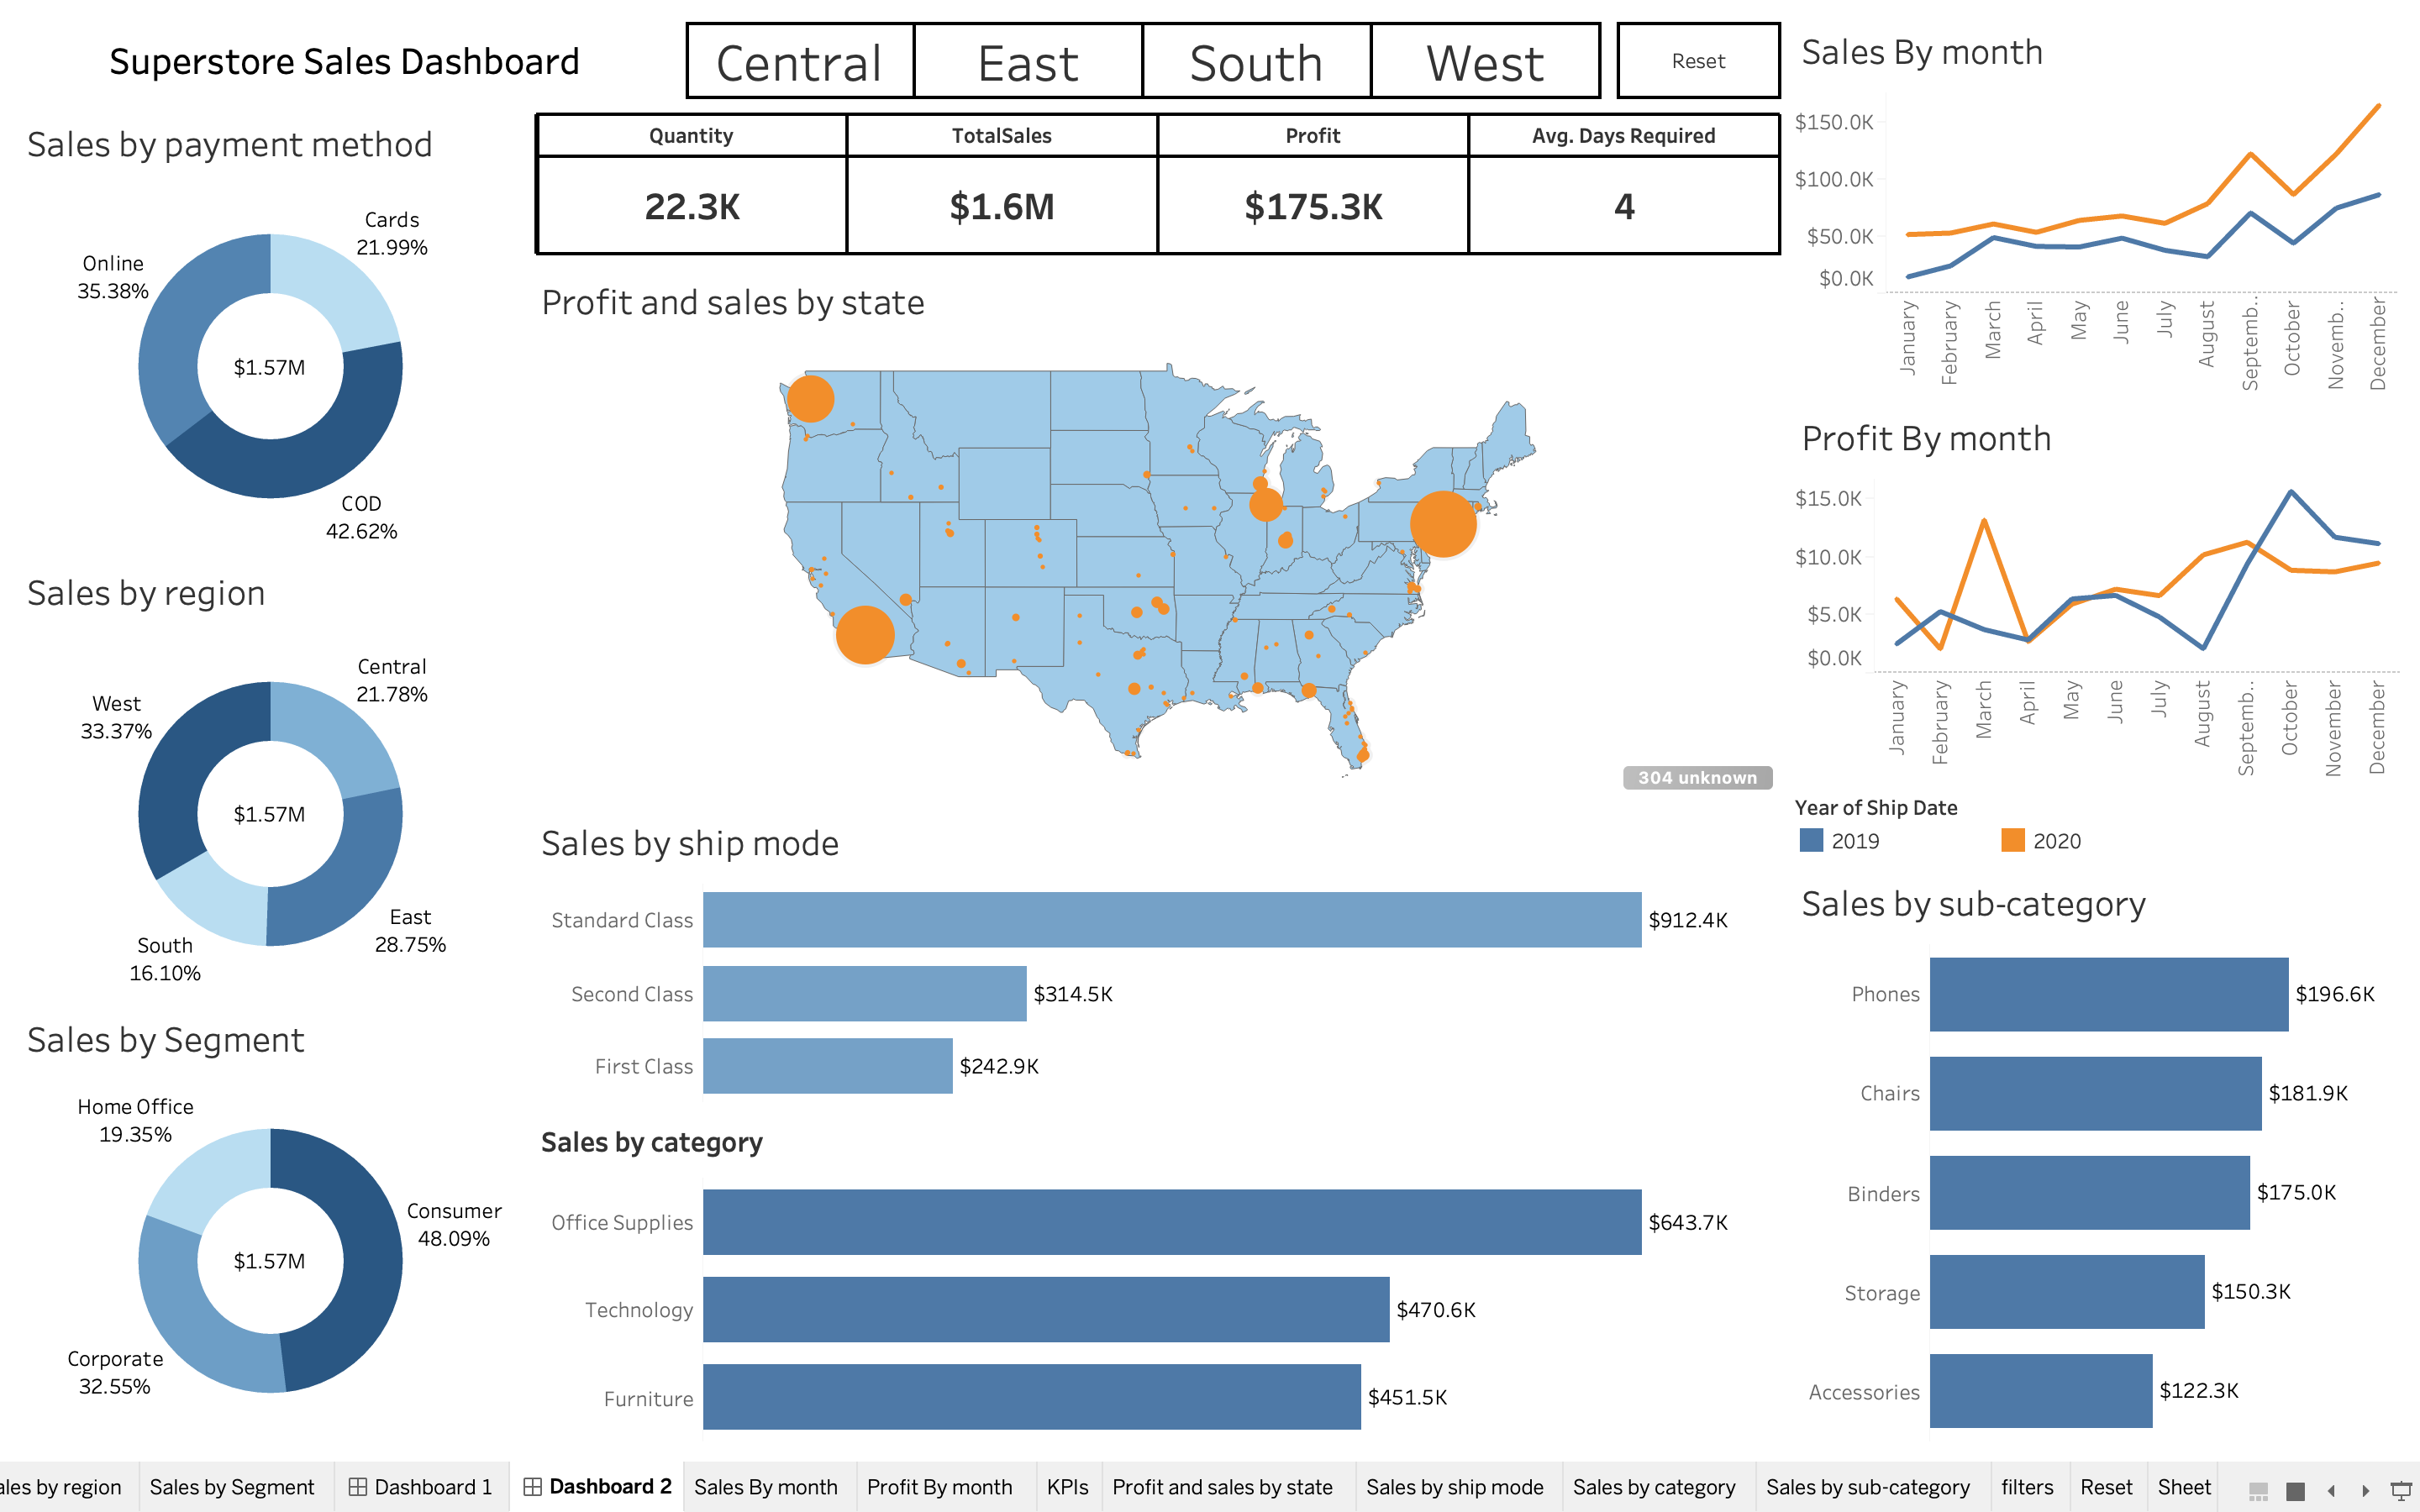

The dashboard page shown, as its layout file describes it:
{"tool":"tableau","page":{"name":"Dashboard 2","canvas":[1000,1000],"units":"permille","ordinal":1},"visuals":[{"type":"text","box":[6.5,9.9,257,63]},{"type":"worksheet","title":"filters","mark":"Automatic","cols":["Region"],"box":[263.5,9.9,360.9,63]},{"type":"worksheet","title":"Reset","mark":"Automatic","box":[624.4,9.9,69.6,63]},{"type":"worksheet","title":"Sales By month","mark":"Line","rows":["Sales"],"cols":["Ship Date"],"box":[694.1,9.9,299.4,284.7]},{"type":"worksheet","title":"KPIs","mark":"Automatic","box":[205.9,72.9,488.2,116.3]},{"type":"worksheet","title":"Sales by payment method","mark":"Pie","rows":["Calculation_279293583182913540","Calculation_279293583182913540"],"box":[6.5,73,199.3,305.7]},{"type":"worksheet","title":"Profit and sales by state","mark":"Automatic","box":[205.9,189.2,488.2,398.5]},{"type":"worksheet","title":"Profit By month ","mark":"Line","rows":["Profit"],"cols":["Ship Date"],"box":[694.1,294.6,299.4,284.7]},{"type":"worksheet","title":"Sales by region","mark":"Pie","rows":["Calculation_279293583182913540","Calculation_279293583182913540"],"box":[6.5,378.7,199.3,305.7]},{"type":"legend","title":"Profit By month ","param":"[federated.0ckfbrr00ud8dm12yvisb0eua2ul].[yr:Ship Date:ok]","box":[694.1,579.2,299.4,58.2]},{"type":"worksheet","title":"Sales by ship mode","mark":"Automatic","rows":["Ship Mode"],"cols":["Sales"],"box":[205.9,587.7,488.2,224]},{"type":"worksheet","title":"Sales by sub-category","mark":"Automatic","rows":["Sub-Category"],"cols":["Sales"],"box":[694.1,637.4,299.4,352.7]},{"type":"worksheet","title":"Sales by Segment","mark":"Pie","rows":["Calculation_279293583182913540","Calculation_279293583182913540"],"box":[6.5,684.4,199.3,305.7]},{"type":"worksheet","title":"Sales by category","mark":"Automatic","rows":["Category"],"cols":["Sales"],"box":[205.9,811.8,488.2,178.3]}]}

Visuals, with their boxes on the dashboard's canvas, which has no fixed pixel size, in thousandths of its width and height (x1, y1, x2, y2). These are canvas units, not pixel positions in the 2420x1512 screenshot, which may show the page scaled, cropped or inside an application window:
text: left=6, top=10, right=264, bottom=73
"filters" worksheet: left=264, top=10, right=624, bottom=73
"Reset" worksheet: left=624, top=10, right=694, bottom=73
"Sales By month" worksheet (Line marks): left=694, top=10, right=994, bottom=295
"KPIs" worksheet: left=206, top=73, right=694, bottom=189
"Sales by payment method" worksheet (Pie marks): left=6, top=73, right=206, bottom=379
"Profit and sales by state" worksheet: left=206, top=189, right=694, bottom=588
"Profit By month " worksheet (Line marks): left=694, top=295, right=994, bottom=579
"Sales by region" worksheet (Pie marks): left=6, top=379, right=206, bottom=684
"Profit By month " legend: left=694, top=579, right=994, bottom=637
"Sales by ship mode" worksheet: left=206, top=588, right=694, bottom=812
"Sales by sub-category" worksheet: left=694, top=637, right=994, bottom=990
"Sales by Segment" worksheet (Pie marks): left=6, top=684, right=206, bottom=990
"Sales by category" worksheet: left=206, top=812, right=694, bottom=990
